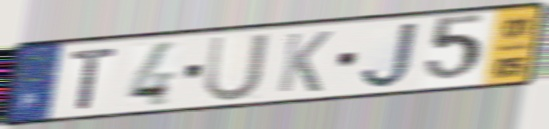4: (122, 39, 178, 109)
5: (422, 12, 488, 88)
J: (357, 20, 423, 92)
K: (275, 29, 335, 95)
T: (67, 45, 121, 111)
U: (201, 30, 272, 104)
